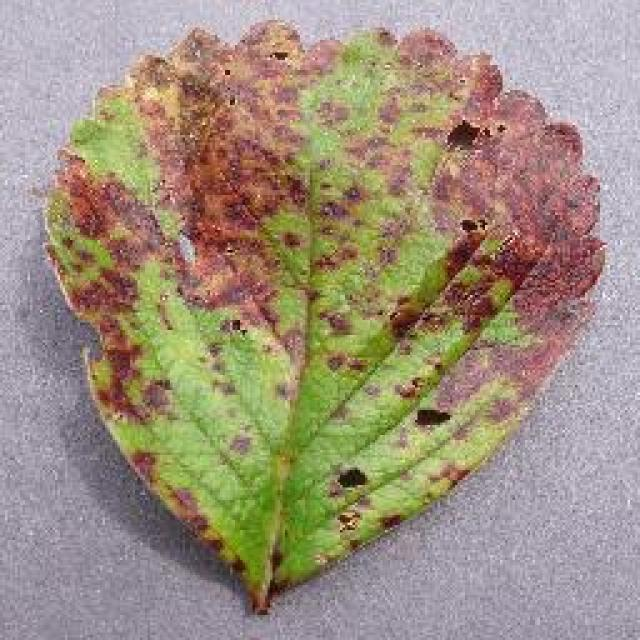Strawberry___Leaf_scorch: (28, 0, 620, 630)
